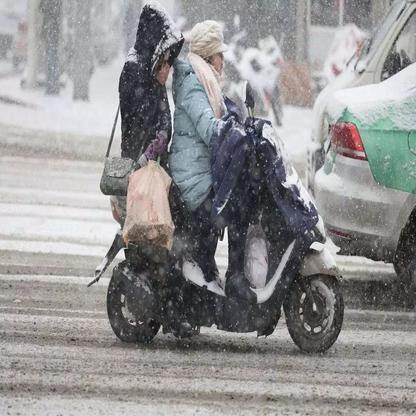target: (107, 3, 345, 351)
